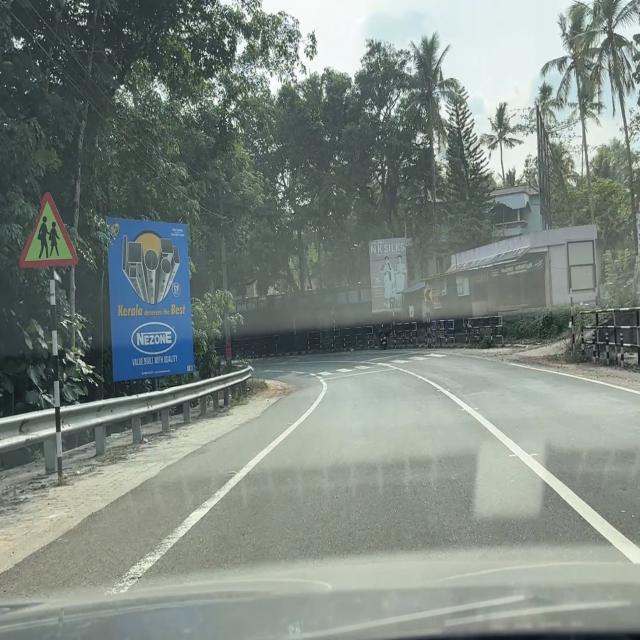SCHOOL_AHEAD: (18, 191, 79, 269)
TURN_LEFT: (425, 289, 432, 302)
